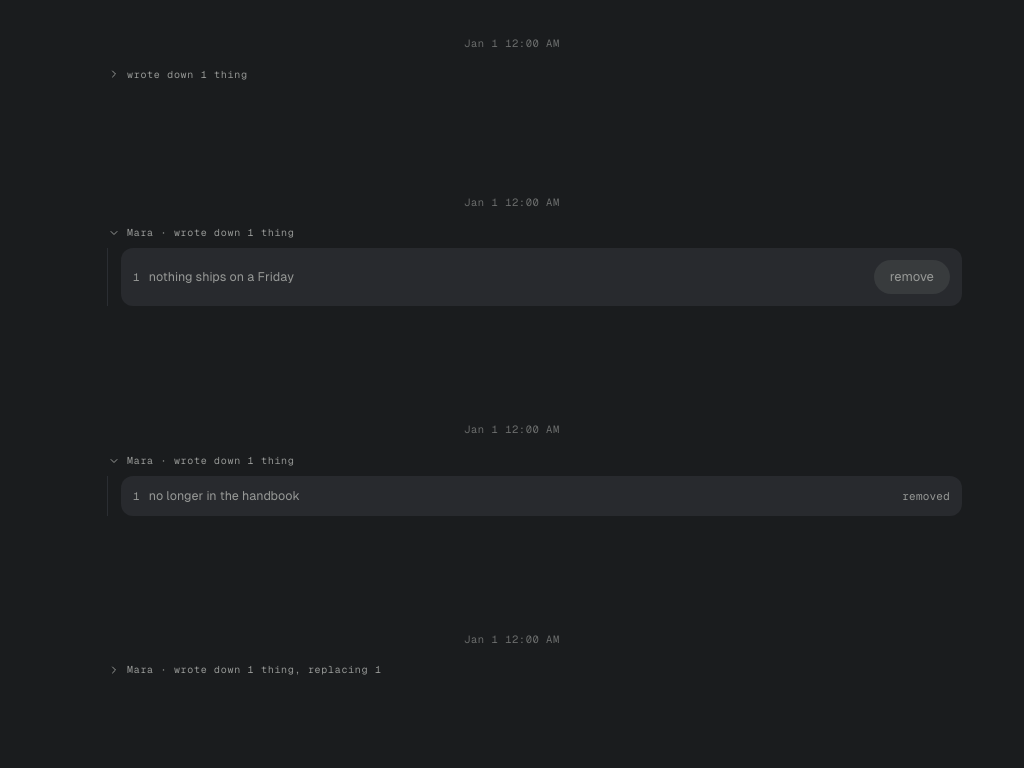
Test case: a Handbook write in the transcript › says what a correction replaced, on the same block
The image size is (1024, 768).
(page scrolled)
Check: the text with class "lbl" reads "Mara · wrote down 1 thing, replacing 1", box [127,663,382,676]
What coordinates should you click on to do the following:
click the button with class "route" that starts with "Mara · wrote down 1 thing, replacing 1"
I would click on:
 (254, 670)
Its box is [102,661,962,678].
(page scrolled)
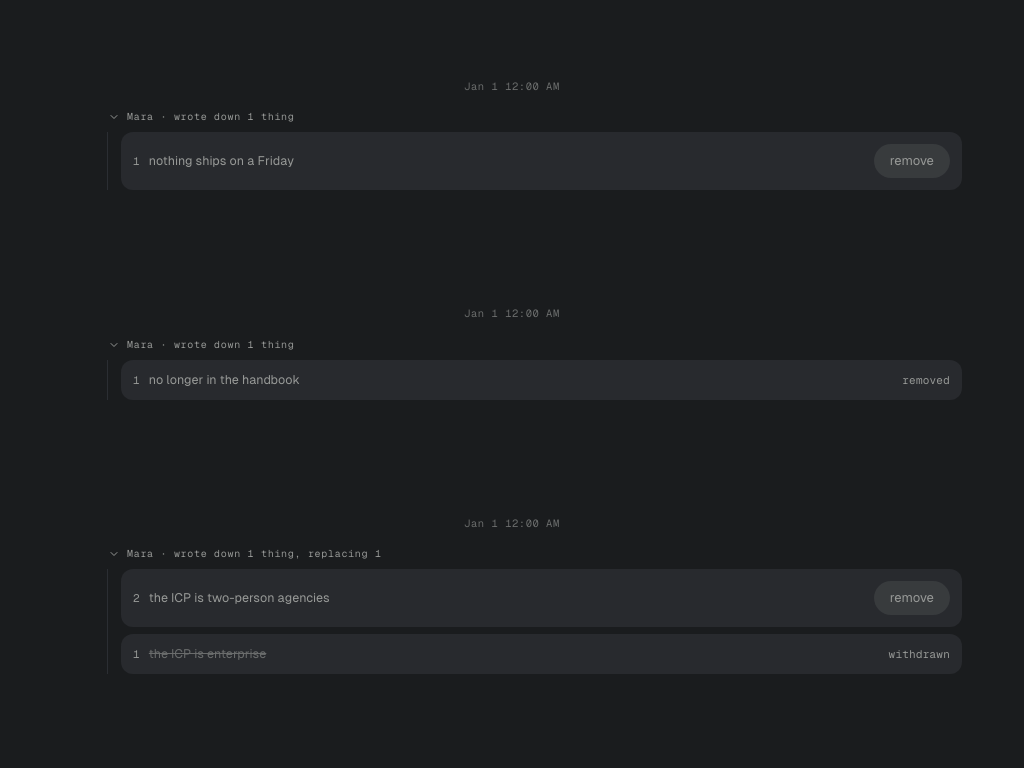
Check: the element with class "gone" shows "withdrawn", box [889,647,950,661]
